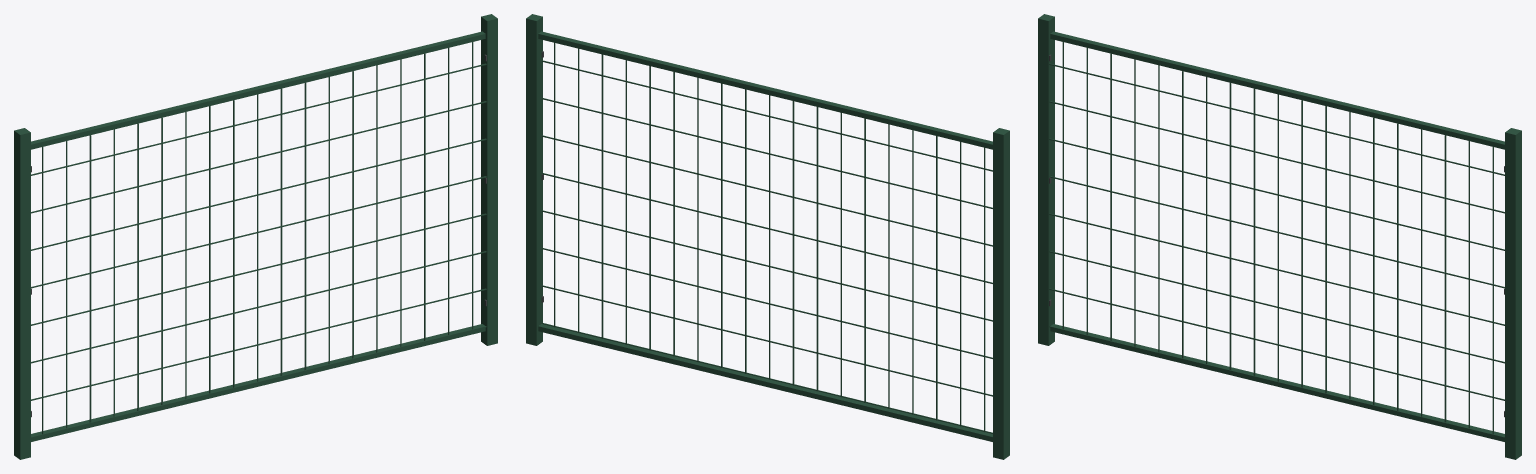
The picture shows the model from 3 angles, left to right: view 1: azimuth 30°, elevation 25°; view 2: azimuth 150°, elevation 25°; view 3: azimuth 330°, elevation 25°; orthographic projection.
Parts seen in each view (by area): view 1: Mesh, Rails, Posts, EndPost; view 2: Mesh, Rails, Posts, EndPost; view 3: Mesh, Rails, EndPost, Posts.
Boxes of the visible parts, x1,y1,x2,y2 form: Mesh: (31,42,486,438); Rails: (31,31,485,441); Posts: (14,128,30,459); EndPost: (481,14,497,345); Mesh: (542,42,992,433); Rails: (538,31,992,441); Posts: (993,128,1009,459); EndPost: (526,14,542,345); Mesh: (1049,42,1504,438); Rails: (1050,31,1504,441); EndPost: (1505,128,1521,459); Posts: (1038,14,1054,345).
Size of the model in its own units: 2 by 1.3 by 0.045.
